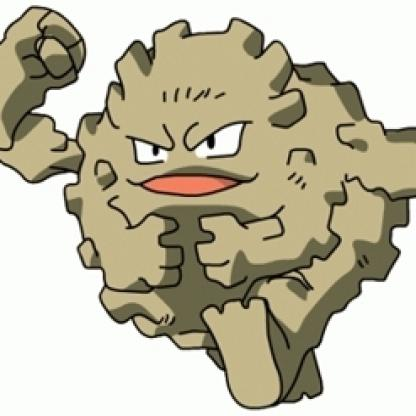Graveler: (1, 1, 416, 411)
